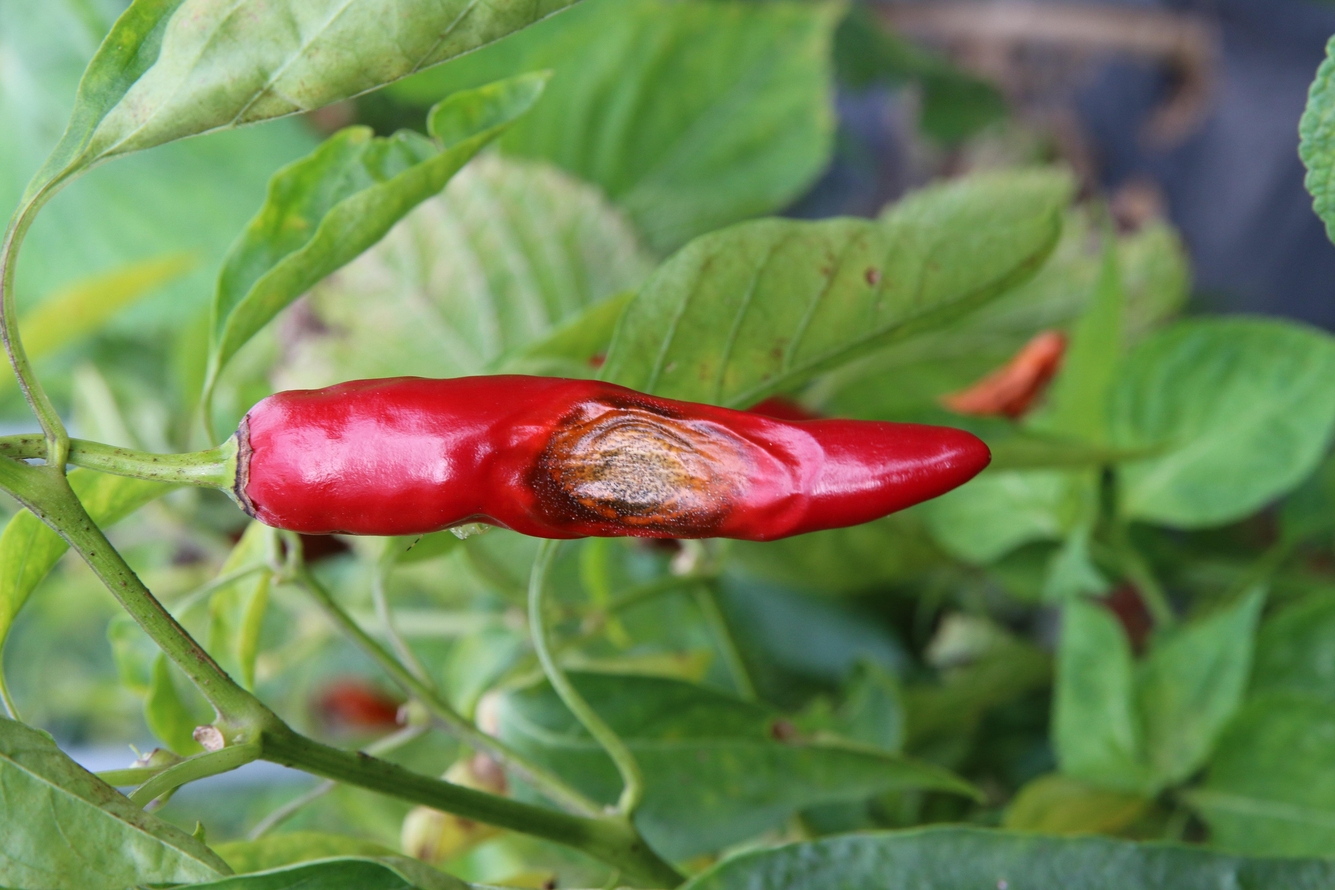Busuk Buah Antraknosa: (226, 371, 993, 544)
